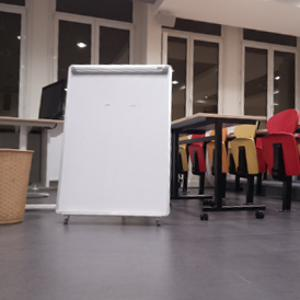big: (55, 64, 175, 221)
medium: (1, 147, 34, 227)
